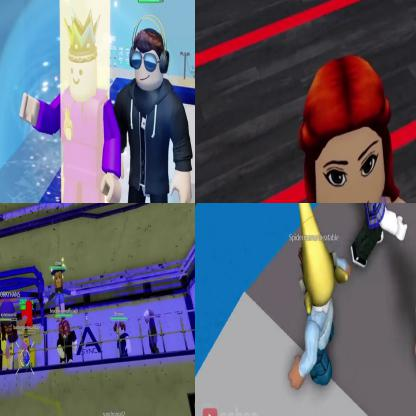Roblox-Avatar: (20, 8, 122, 203), (300, 55, 416, 203), (114, 14, 195, 203), (288, 204, 353, 392), (352, 204, 409, 270), (45, 258, 78, 322), (1, 299, 29, 360), (58, 319, 78, 365), (145, 310, 161, 356), (114, 322, 133, 359)
